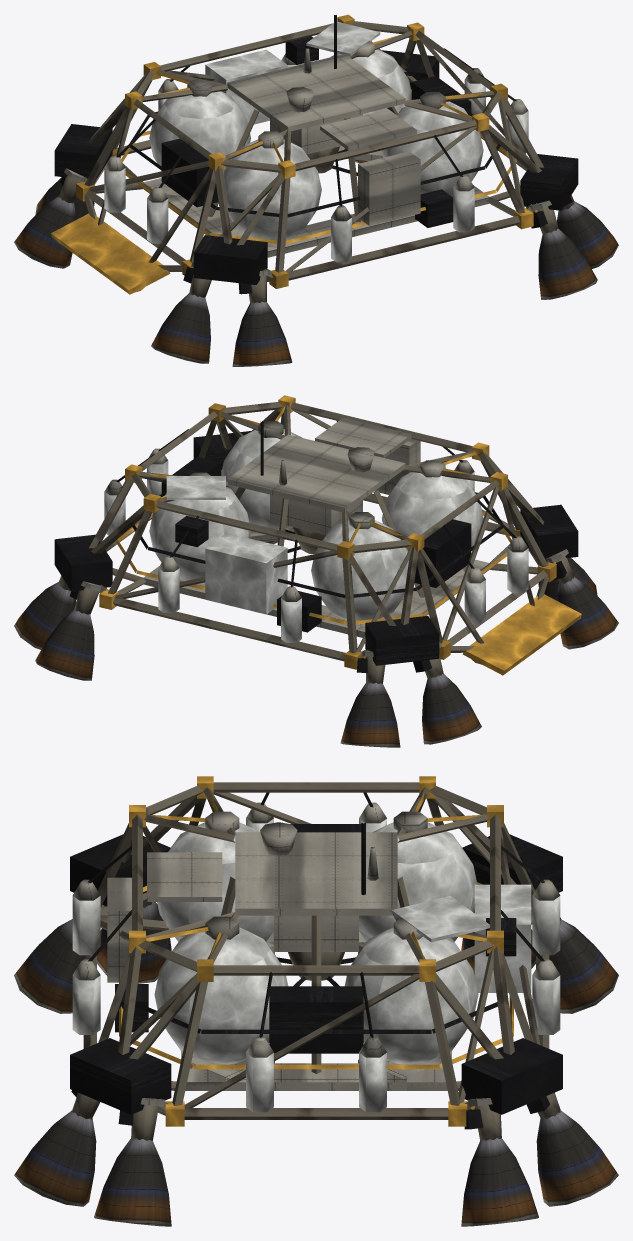
Rendered from skycrane.glb.
The picture shows the model from 3 angles, top to bottom: view 1: azimuth 30°, elevation 25°; view 2: azimuth 150°, elevation 25°; view 3: azimuth 270°, elevation 25°; orthographic projection. The views are drawn at different scales.
Visible parts, largest first — view 1: SkyCrane_Body, Thruster_RF_2, Thruster_LF_1, Thruster_LF_2, Thruster_LB_1, Thruster_RF_1, Thruster_LB_2; view 2: SkyCrane_Body, Thruster_RB_2, Thruster_LB_2, Thruster_LB_1, Thruster_LF_1, Thruster_RB_1, Thruster_LF_2; view 3: SkyCrane_Body, Thruster_RB_1, Thruster_RF_1, Thruster_RB_2, Thruster_RF_2, Thruster_LF_2, Thruster_LB_2, Thruster_LF_1.
Part boxes in pixels (x1,y1,x2,y2): SkyCrane_Body: (51,14,578,294); Thruster_RF_2: (528,200,597,299); Thruster_LF_1: (151,261,211,363); Thruster_LF_2: (232,270,292,366); Thruster_LB_1: (14,168,87,268); Thruster_RF_1: (557,195,618,268); Thruster_LB_2: (35,177,94,219); SkyCrane_Body: (54,395,581,675); Thruster_RB_2: (35,581,104,680); Thruster_LB_2: (340,650,400,747); Thruster_LB_1: (413,642,481,744); Thruster_LF_1: (545,549,618,649); Thruster_RB_1: (14,576,75,649); Thruster_LF_2: (538,557,597,600); SkyCrane_Body: (70,776,562,1126); Thruster_RB_1: (461,1098,538,1226); Thruster_RF_1: (94,1098,171,1226); Thruster_RB_2: (526,1092,618,1206); Thruster_RF_2: (14,1090,100,1206); Thruster_LF_2: (14,905,105,1013); Thruster_LB_2: (549,917,618,1013); Thruster_LF_1: (97,901,171,983).
Bounding box in the file's own units: 3.75 × 1.78 × 3.21.
6 materials, 6 textured.
